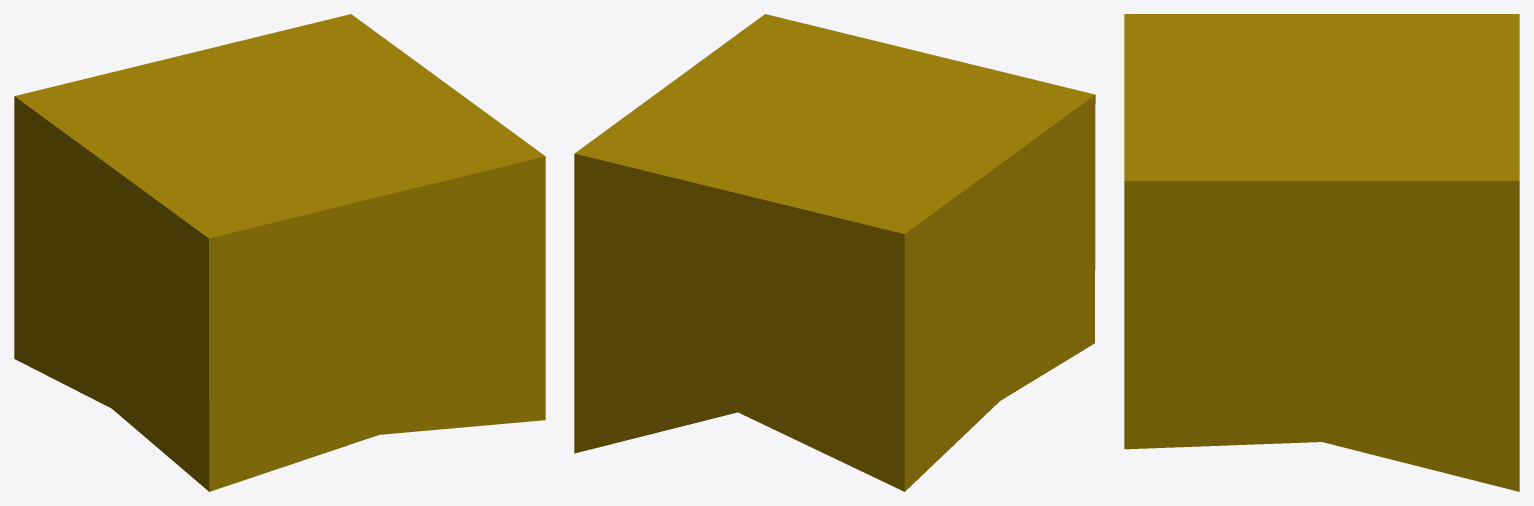
Rendered from Collapse.obj.
3 renders of one model, left to right at view 1: azimuth 30°, elevation 25°; view 2: azimuth 150°, elevation 25°; view 3: azimuth 270°, elevation 25°, orthographic. The views are drawn at different scales.
Visible parts, largest first — view 1: 立方体; view 2: 立方体; view 3: 立方体.
Part boxes in pixels (x1,y1,x2,y2): 立方体: (14,14,545,491); 立方体: (574,14,1095,491); 立方体: (1124,14,1519,491).
Size of the model in its own units: 0.9909 by 0.8599 by 0.9909.
1 material, 1 textured.
